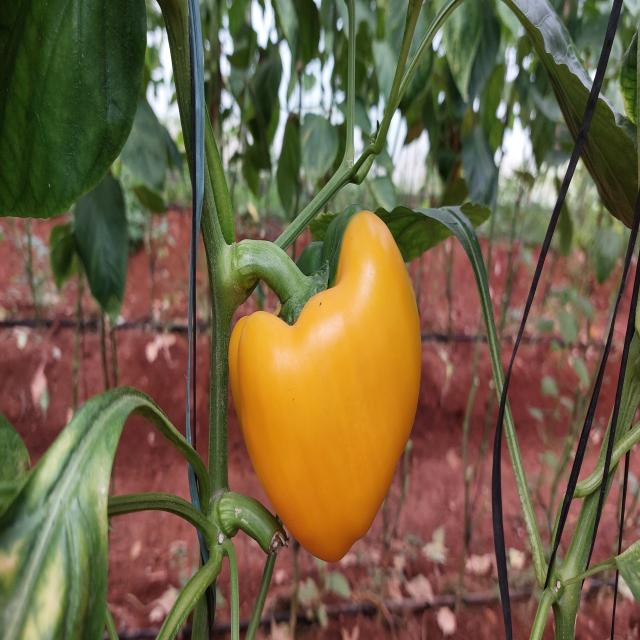Yellow-Ready-to-Harvest: (228, 208, 426, 565)
